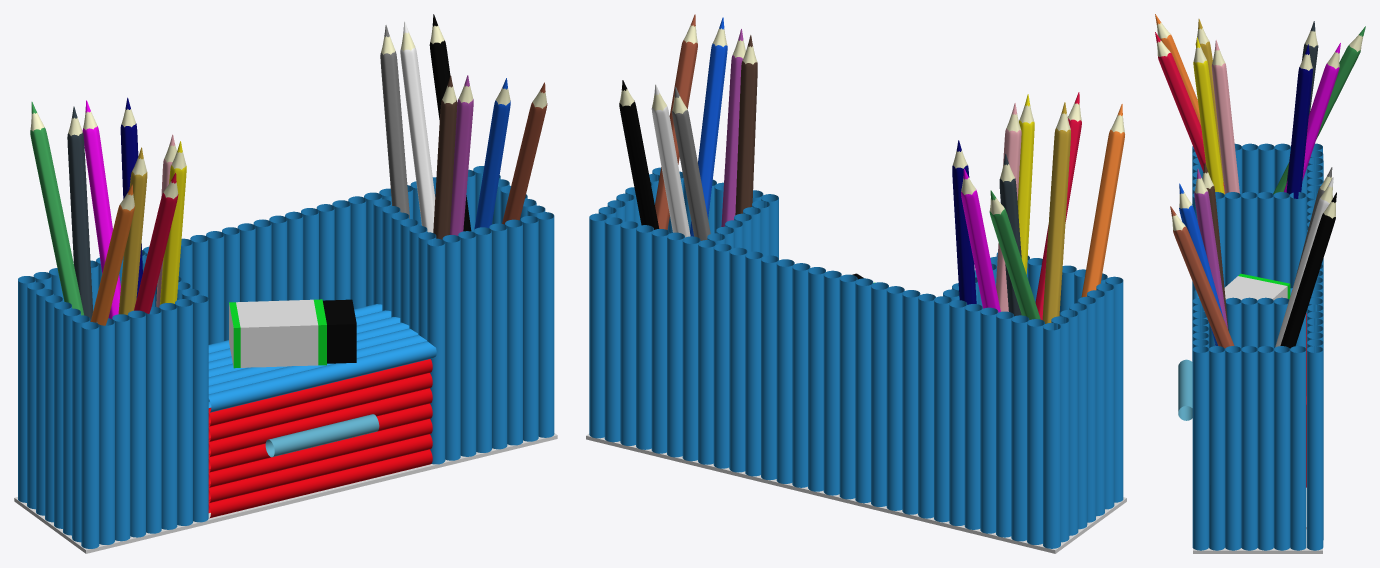
File: Kotak Pensil Sedotan.fbx
3 views of the same model, side by side, from view 1: azimuth 30°, elevation 25°; view 2: azimuth 150°, elevation 25°; view 3: azimuth 270°, elevation 25° (orthographic). The views are drawn at different scales.
Visible parts, largest first — view 1: Cube.001, Cube.002, Cylinder.056, Cylinder, Cylinder.005, Cylinder.030, Cylinder.035, Cylinder.028, Cylinder.003, Cylinder.002, Cylinder.007, Cylinder.006 (+51 smaller); view 2: Cylinder.021, Cylinder.026, Cylinder.071, Cylinder.064, Cylinder.055, Cylinder.070, Cylinder.074, Cylinder.063, Cylinder.067, Cylinder.023, Cylinder.024, Cylinder.025 (+42 smaller); view 3: Cylinder.038, Cylinder.037, Cylinder.039, Cylinder.041, Cylinder.035, Cylinder.042, Cylinder.036, Cylinder.040, Pensil.007, Pensil.010, Pensil, Pensil.006 (+29 smaller).
Part boxes in pixels (box(x1,y1,x2,y2)): Cube.001: box(208, 359, 432, 518); Cube.002: box(229, 299, 356, 368); Cylinder.056: box(208, 341, 436, 412); Cylinder: box(81, 322, 99, 548); Cylinder.005: box(159, 303, 177, 529); Cylinder.030: box(458, 231, 476, 456); Cylinder.035: box(536, 212, 554, 437); Cylinder.028: box(427, 238, 445, 464); Cylinder.003: box(128, 310, 145, 537); Cylinder.002: box(112, 314, 130, 541); Cylinder.007: box(190, 295, 208, 522); Cylinder.006: box(175, 299, 192, 525); Cylinder.021: box(1043, 323, 1060, 548); Cylinder.026: box(964, 304, 982, 529); Cylinder.071: box(839, 274, 857, 499); Cylinder.064: box(729, 247, 747, 472); Cylinder.055: box(604, 217, 622, 442); Cylinder.070: box(823, 270, 841, 495); Cylinder.074: box(886, 286, 904, 510); Cylinder.063: box(713, 244, 731, 468); Cylinder.067: box(776, 259, 794, 483); Cylinder.023: box(1011, 315, 1029, 541); Cylinder.024: box(996, 311, 1013, 537); Cylinder.025: box(980, 307, 998, 533); Cylinder.038: box(1241, 346, 1257, 550); Cylinder.037: box(1225, 346, 1241, 550); Cylinder.039: box(1257, 346, 1273, 550); Cylinder.041: box(1290, 346, 1306, 550); Cylinder.035: box(1192, 346, 1208, 550); Cylinder.042: box(1307, 346, 1323, 550); Cylinder.036: box(1208, 346, 1225, 550); Cylinder.040: box(1273, 346, 1290, 550); Pensil.007: box(1280, 192, 1336, 348); Pensil.010: box(1211, 40, 1239, 193); Pensil: box(1193, 37, 1224, 194); Pensil.006: box(1170, 206, 1306, 528).
Bounding box in the file's own units: 1176 × 929 × 503.
